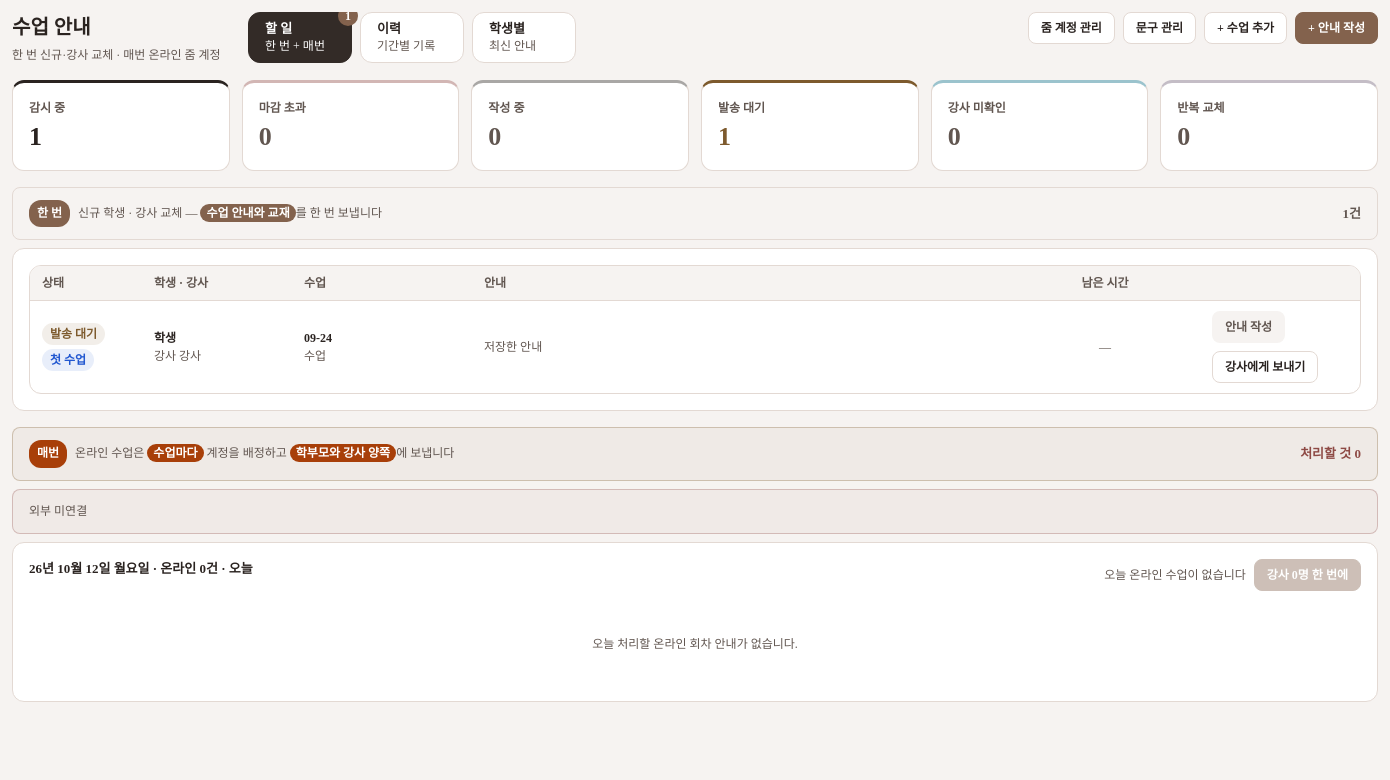
Scenario: 저장된 GUIDE id와 빈 본문만 보내고 성공 뒤 새 GET으로 할 일 목록에서 빼고 이력 안내를 표시한다
Click the button "강사에게 보내기" at [1265, 367], box [1212,351,1318,383]
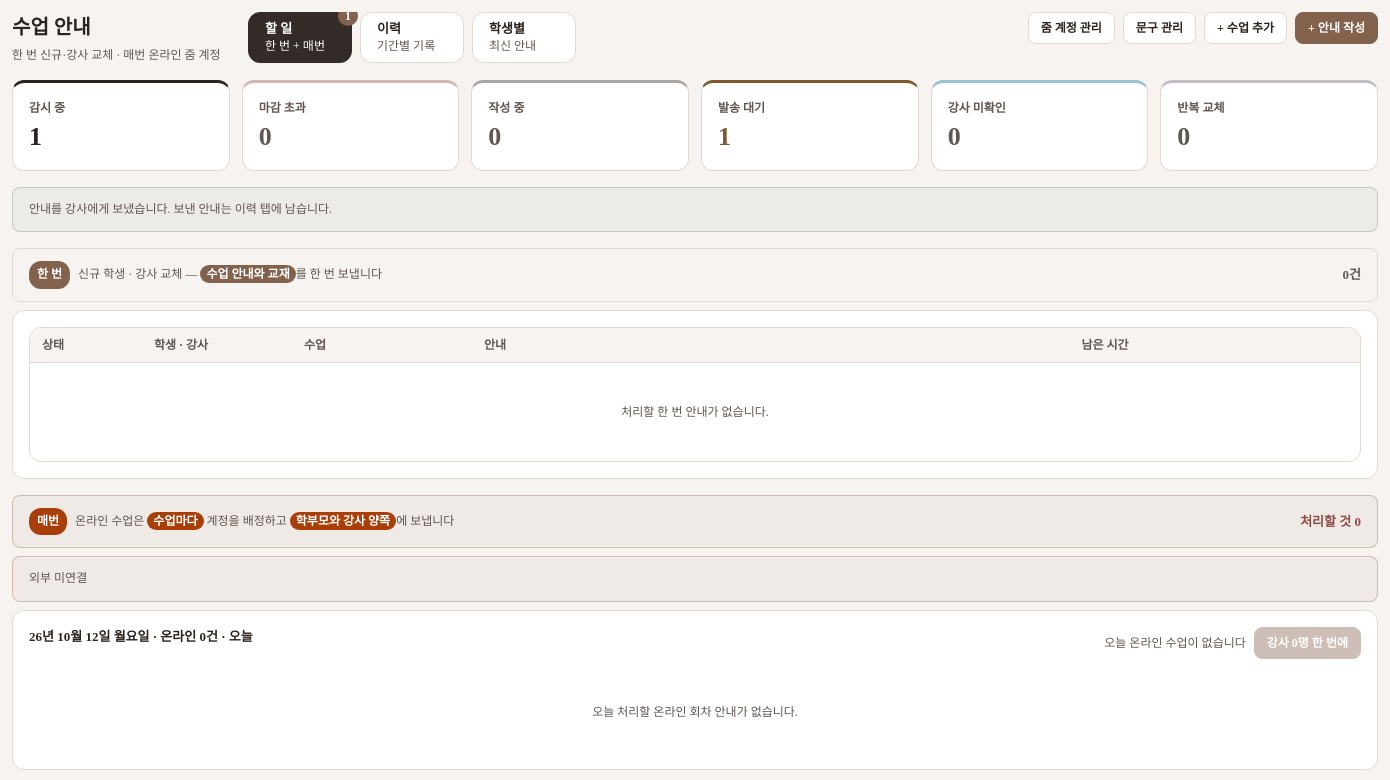
Expected: the text "안내를 강사에게 보냈습니다. 보낸 안내는 이력 탭에 남습니다." is shown, [29,202,332,216]
Expected: the text "저장한 안내" is gone
Expected: the button "강사에게 보내기" is gone
